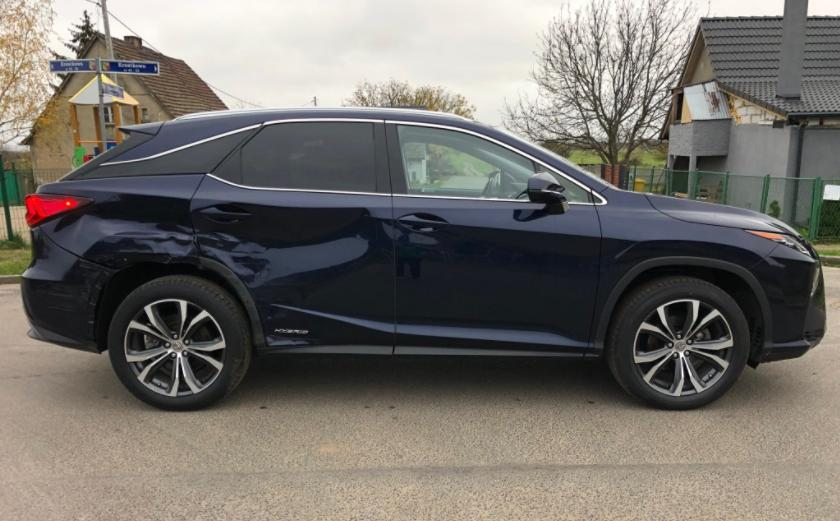Back-bumper: (20, 225, 120, 355)
Back-door: (189, 118, 396, 347)
Back-wheel: (107, 274, 254, 411)
Back-window: (242, 122, 376, 192)
Fender: (584, 184, 778, 360)
Front-bumper: (595, 256, 774, 363), (747, 243, 828, 363)
Front-door: (385, 120, 601, 354)
Front-wheel: (603, 275, 749, 410)
Front-window: (396, 124, 536, 199), (539, 164, 589, 202)
Headlight: (743, 229, 816, 261)
Hood: (643, 191, 801, 238)
Mirror: (527, 171, 569, 213)
Quarter-panel: (37, 174, 205, 270)
Rocker-panel: (254, 347, 585, 359)
Roof: (172, 107, 475, 123)
Tail-light: (24, 193, 94, 228)
Trunk: (56, 121, 164, 181)
Windshield: (492, 126, 611, 187)
